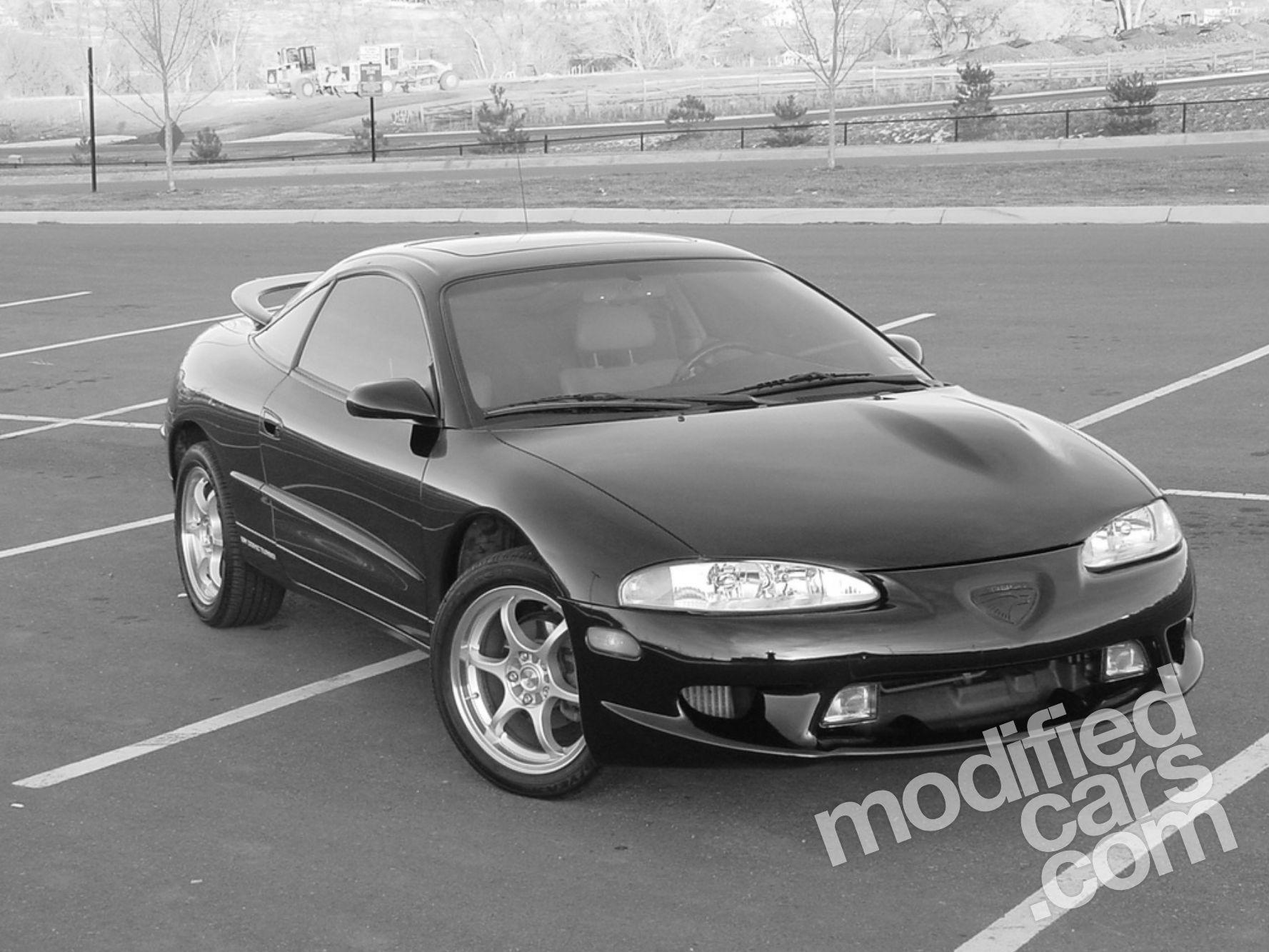car: (165, 234, 1208, 803)
